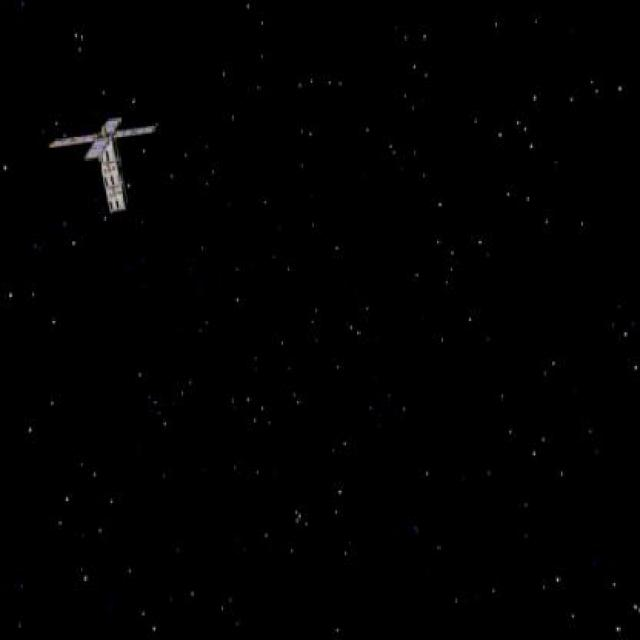medium_debris: (29, 102, 181, 221)
